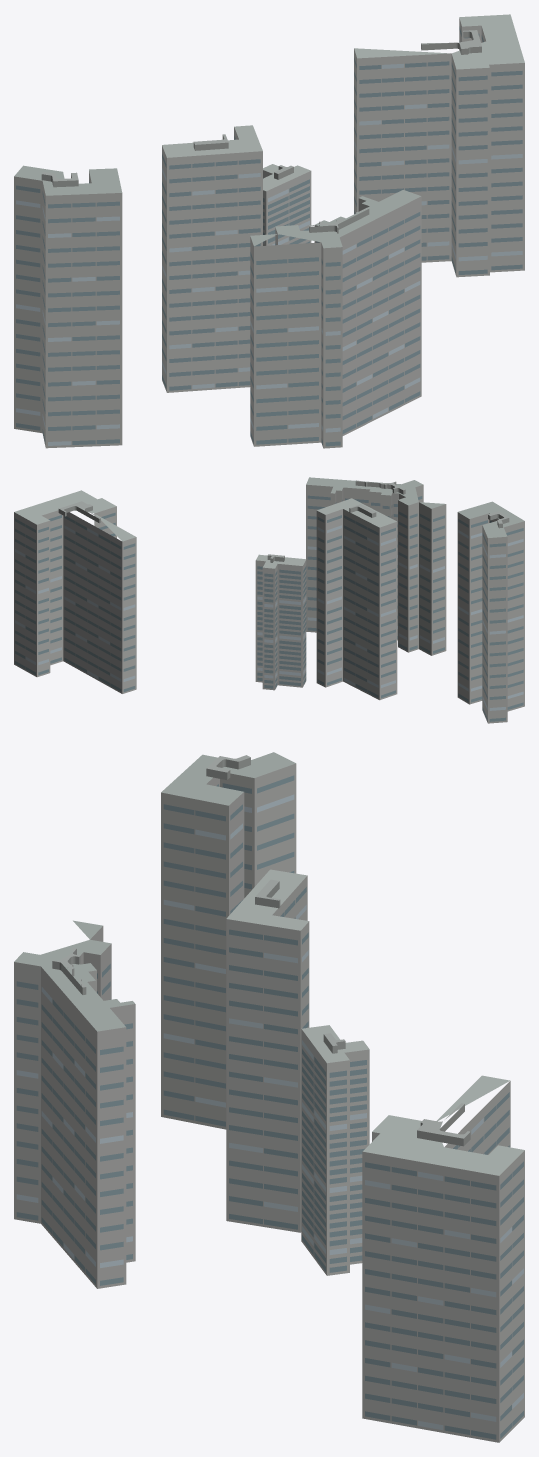
Rendered from apt-a10026941.glb.
3 views of the same model, one above another, from view 1: azimuth 30°, elevation 25°; view 2: azimuth 150°, elevation 25°; view 3: azimuth 270°, elevation 25° (orthographic). The views are drawn at different scales.
Parts seen in each view (by area): view 1: apt-a10026941; view 2: apt-a10026941; view 3: apt-a10026941.
Part boxes in pixels (x1,y1,x2,y2): apt-a10026941: (14, 14, 524, 448); apt-a10026941: (14, 477, 524, 723); apt-a10026941: (14, 752, 524, 1442).
Size of the model in its own units: 246 by 104 by 145.
